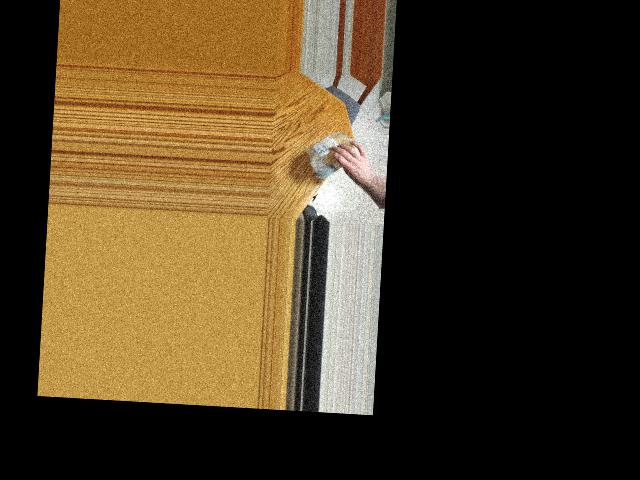cheese: (306, 129, 364, 177)
